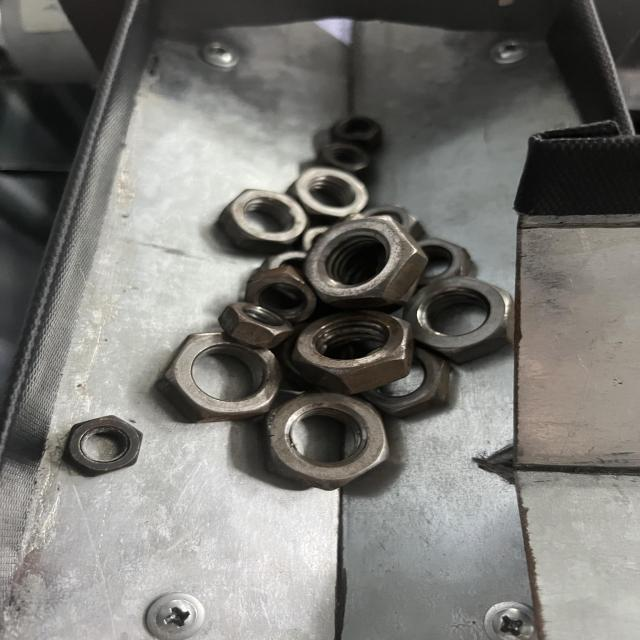nut: (269, 390, 388, 492), (302, 215, 428, 308), (165, 330, 283, 420), (66, 416, 144, 476), (219, 191, 302, 247)
